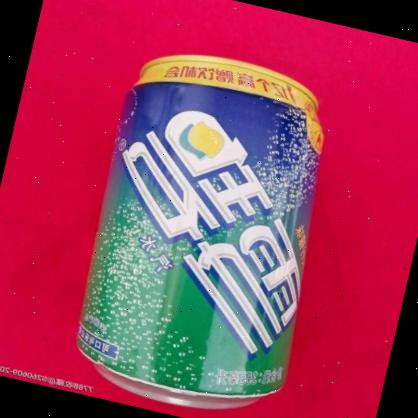can: (65, 40, 352, 418)
